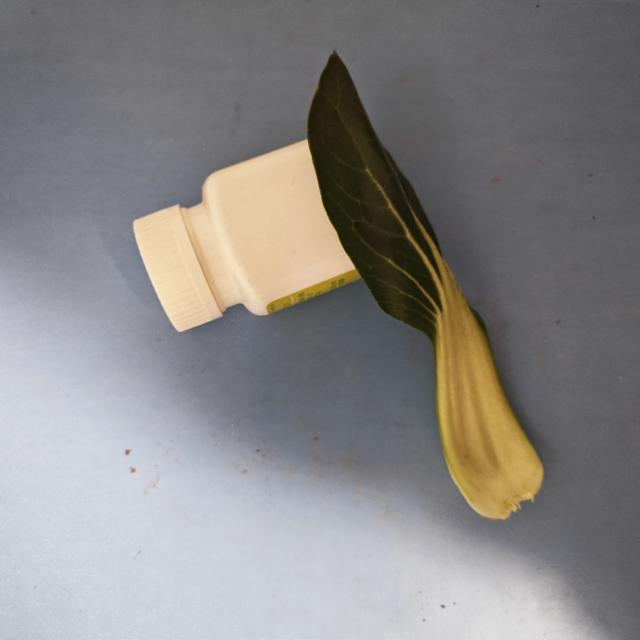-Kitchen waste - vegetable roots and leaves-: (306, 48, 544, 523)
-Recyclables - plastic bottle-: (130, 140, 362, 332)
